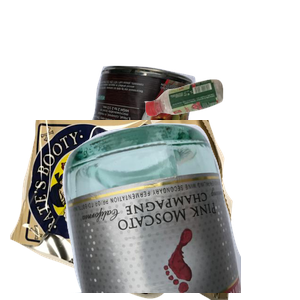glass: (60, 120, 300, 300)
metal: (78, 63, 266, 243)
plastic: (142, 77, 300, 186)
trash: (10, 120, 235, 300)
